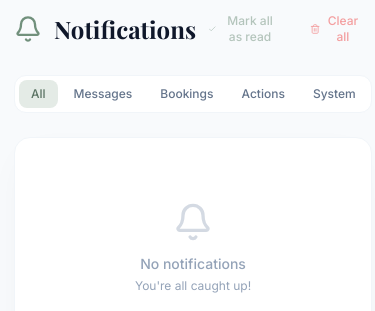
Test: NotificationsPage › shows filtered empty state text
The width and height of the screenshot is (375, 311).
Step 1. Click the button with test id "filter-tab-action" → {"x": 263, "y": 94}, box [230,80,297,108]
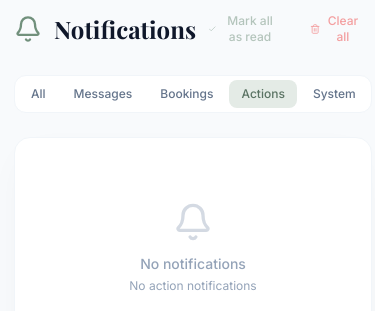
Expected: the text "No action notifications" is shown, [129,278,257,294]
